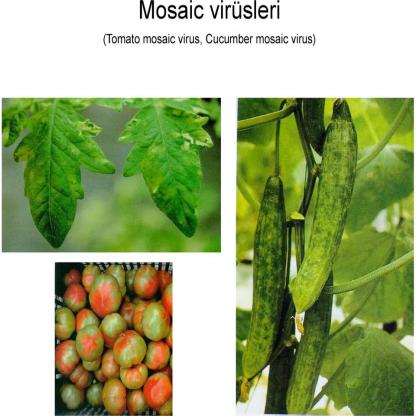tomato leaf mosaic virus: (13, 101, 117, 249), (125, 104, 208, 241)
